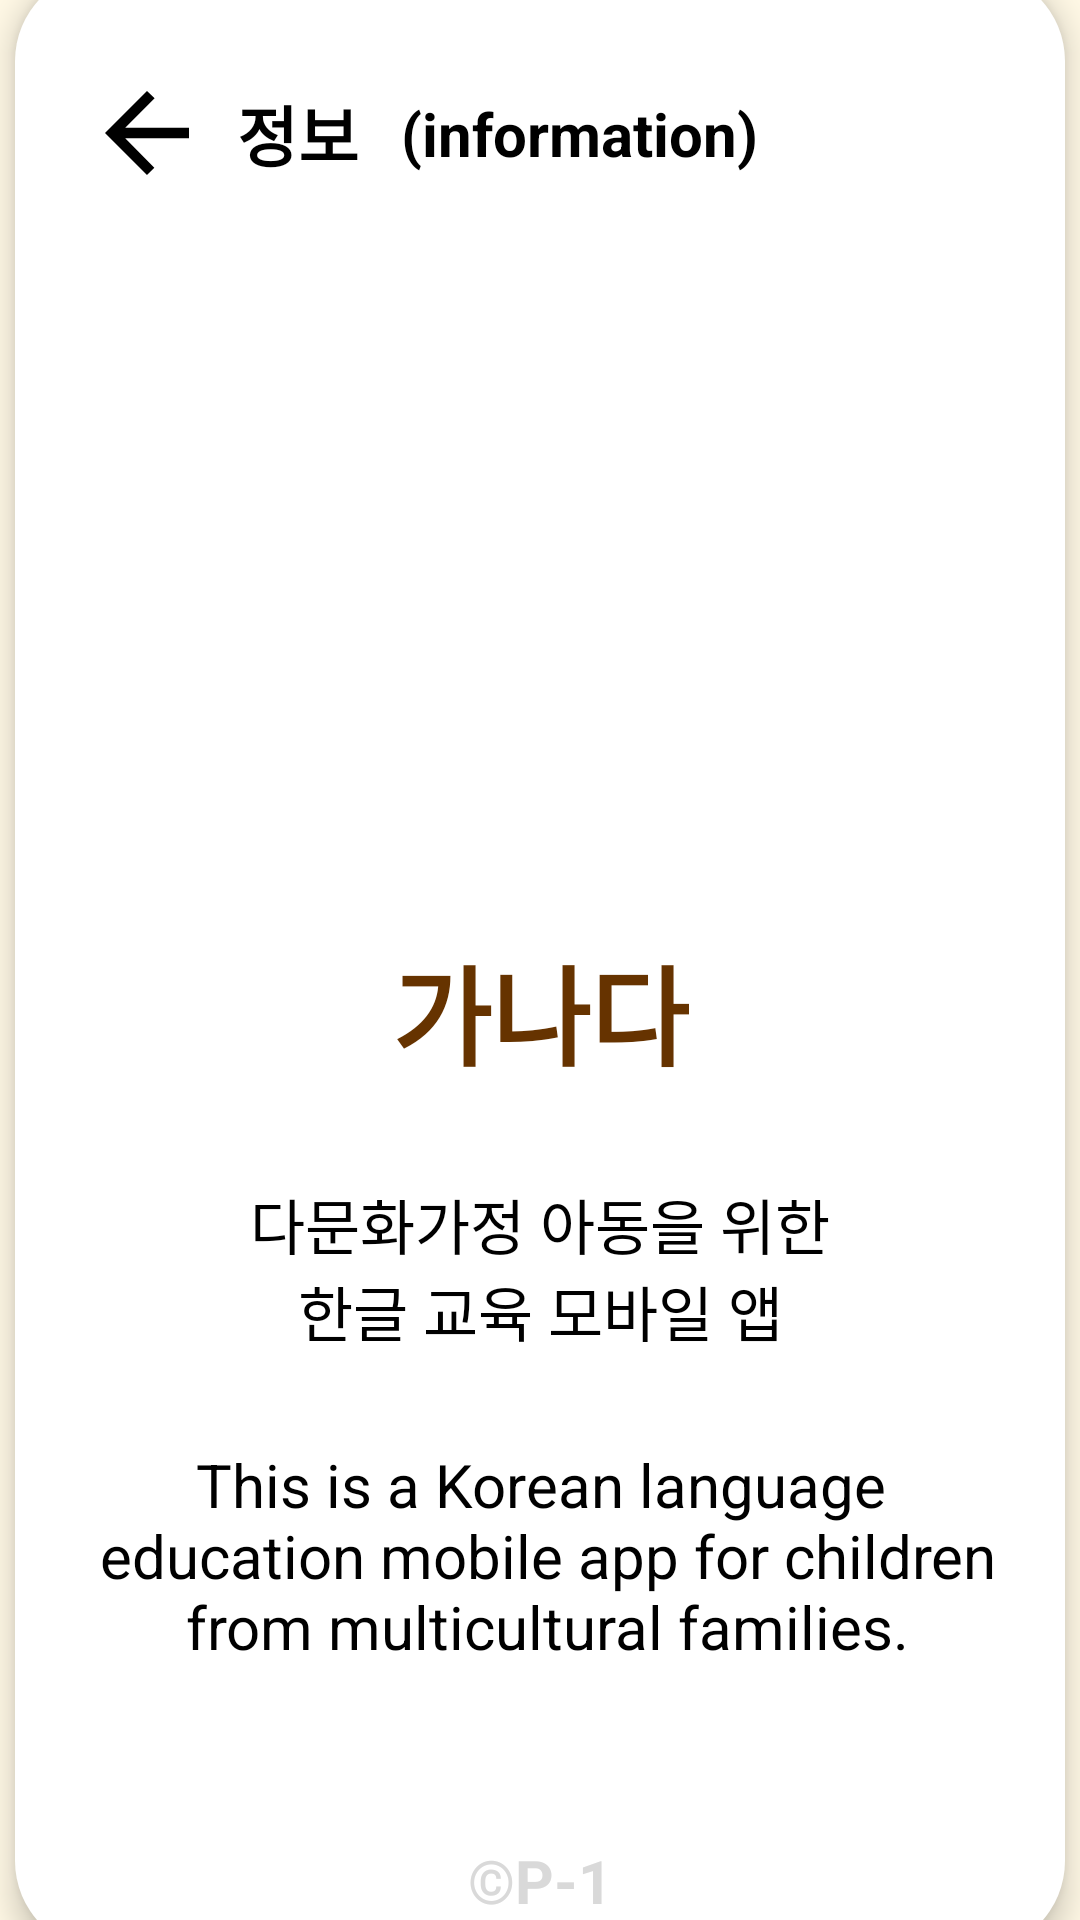

Icon click points for this 1080px×1920px phone screenshot, format (x,y):
back: (147,133)
